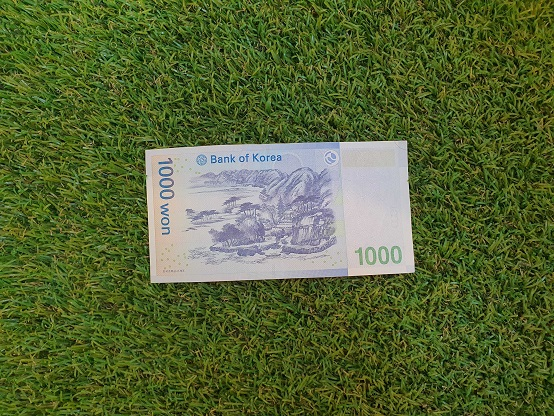1000won: (144, 137, 416, 283)
